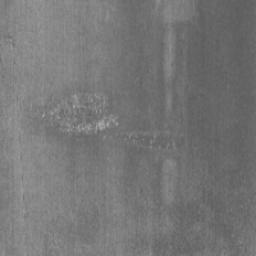Rolled pit: (41, 91, 119, 134), (115, 131, 176, 150)
